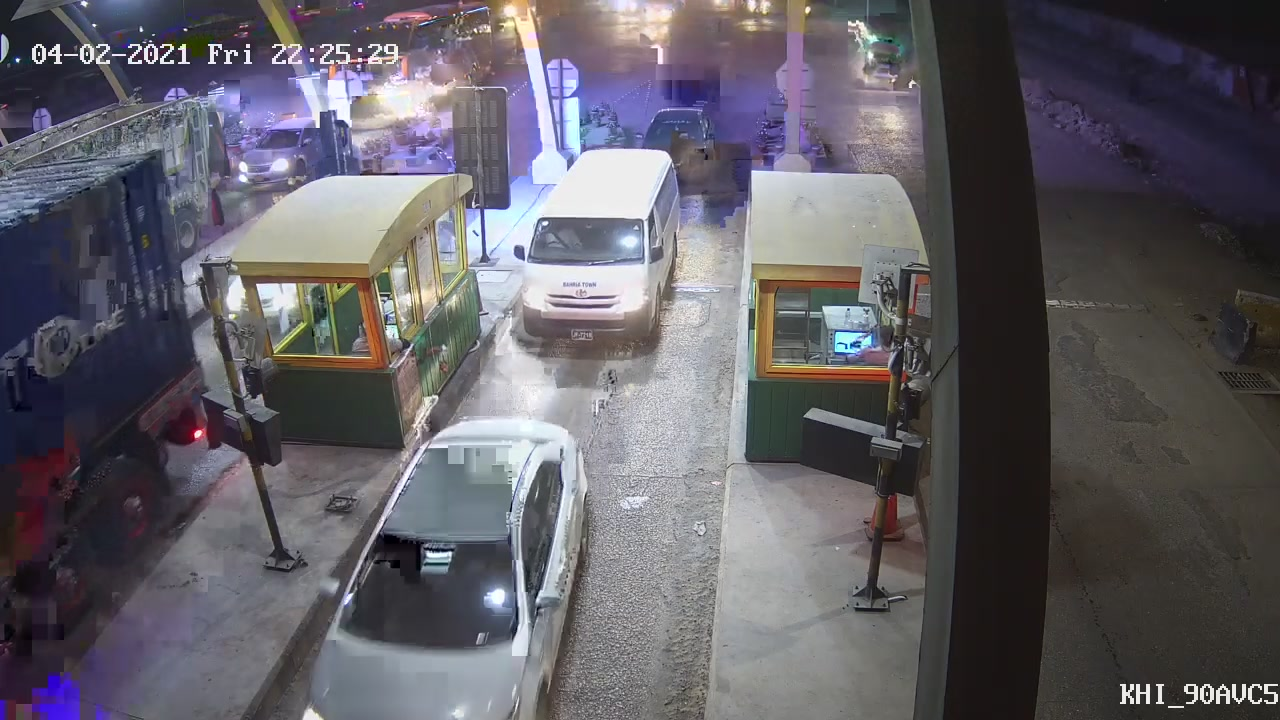F2: (517, 147, 685, 349)
